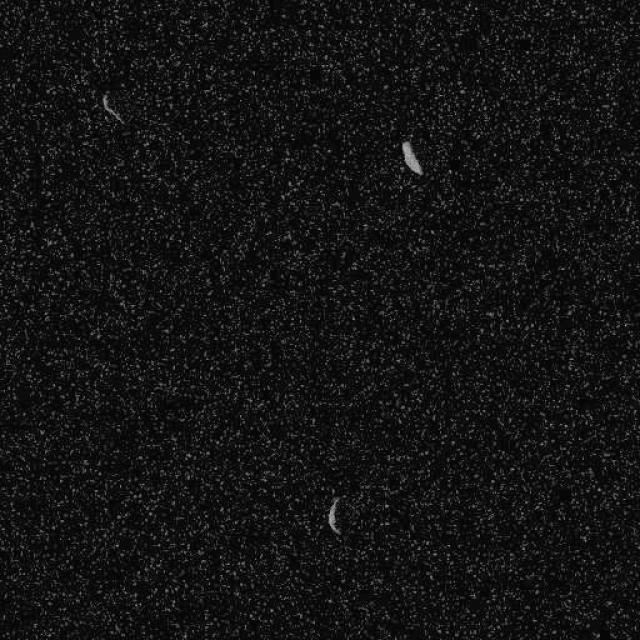D2: (400, 139, 424, 176), (100, 90, 125, 125), (326, 495, 344, 535)
